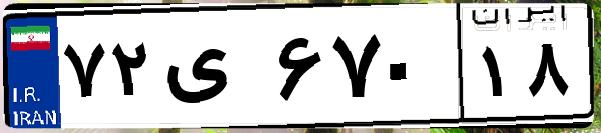0: (385, 28, 445, 110)
1: (475, 38, 525, 113)
2: (110, 28, 158, 98)
6: (270, 28, 330, 110)
7: (330, 28, 385, 110), (57, 26, 110, 100)
8: (525, 38, 570, 115)
ی: (158, 20, 270, 120)
